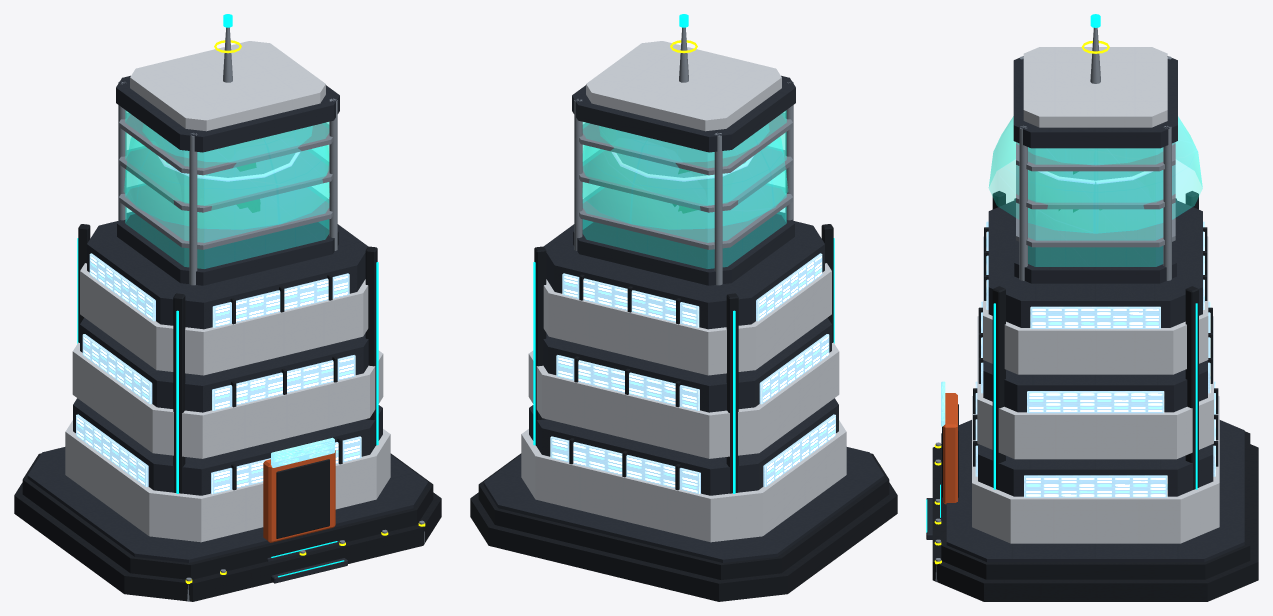
File: bldg_06_r1_01.glb
3 renders of one model, left to right at view 1: azimuth 30°, elevation 25°; view 2: azimuth 150°, elevation 25°; view 3: azimuth 270°, elevation 25°, orthographic.
Parts seen in each view (by area): view 1: Bldg06_C01_aero_white, Bldg06_C01_carbon_slate, Bldg06_C01_gunmetal, Bldg06_C01_steel_machined, Bldg06_C01_glass_emerald, Bldg06_C01_window_lit, Bldg06_C01_accent_orange, Bldg06_C01_led_cyan, Bldg06_C01_marquee, Bldg06_C01_led_uv; view 2: Bldg06_C01_aero_white, Bldg06_C01_carbon_slate, Bldg06_C01_gunmetal, Bldg06_C01_steel_machined, Bldg06_C01_glass_emerald, Bldg06_C01_window_lit, Bldg06_C01_led_cyan, Bldg06_C01_led_uv; view 3: Bldg06_C01_aero_white, Bldg06_C01_carbon_slate, Bldg06_C01_gunmetal, Bldg06_C01_glass_emerald, Bldg06_C01_steel_machined, Bldg06_C01_window_lit, Bldg06_C01_accent_orange, Bldg06_C01_led_cyan, Bldg06_C01_led_uv.
Part boxes in pixels (box(x1,y1,x2,y2)): Bldg06_C01_aero_white: box(65, 41, 390, 542); Bldg06_C01_carbon_slate: box(27, 75, 428, 583); Bldg06_C01_gunmetal: box(14, 224, 441, 601); Bldg06_C01_steel_machined: box(118, 27, 424, 601); Bldg06_C01_glass_emerald: box(124, 110, 329, 268); Bldg06_C01_window_lit: box(76, 253, 361, 494); Bldg06_C01_accent_orange: box(263, 450, 335, 542); Bldg06_C01_led_cyan: box(77, 14, 378, 577); Bldg06_C01_marquee: box(271, 437, 334, 467); Bldg06_C01_led_uv: box(158, 152, 299, 181); Bldg06_C01_aero_white: box(521, 41, 846, 542); Bldg06_C01_carbon_slate: box(483, 75, 884, 562); Bldg06_C01_gunmetal: box(470, 224, 897, 601); Bldg06_C01_steel_machined: box(574, 27, 880, 465); Bldg06_C01_glass_emerald: box(582, 110, 787, 268); Bldg06_C01_window_lit: box(550, 253, 835, 494); Bldg06_C01_led_cyan: box(533, 14, 834, 493); Bldg06_C01_led_uv: box(612, 152, 753, 181); Bldg06_C01_aero_white: box(972, 47, 1219, 543); Bldg06_C01_carbon_slate: box(926, 56, 1244, 562); Bldg06_C01_gunmetal: box(932, 191, 1258, 601); Bldg06_C01_glass_emerald: box(988, 116, 1202, 266); Bldg06_C01_steel_machined: box(935, 27, 1175, 581); Bldg06_C01_window_lit: box(975, 221, 1215, 497); Bldg06_C01_accent_orange: box(943, 393, 957, 504); Bldg06_C01_led_cyan: box(926, 14, 1197, 532); Bldg06_C01_led_uv: box(1038, 171, 1152, 184).
Size of the model in its own units: 12 by 18.02 by 10.71.
14 materials, 14 textured.
